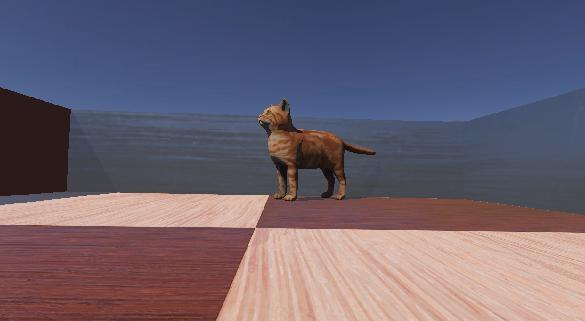Cat: (233, 91, 411, 208)
